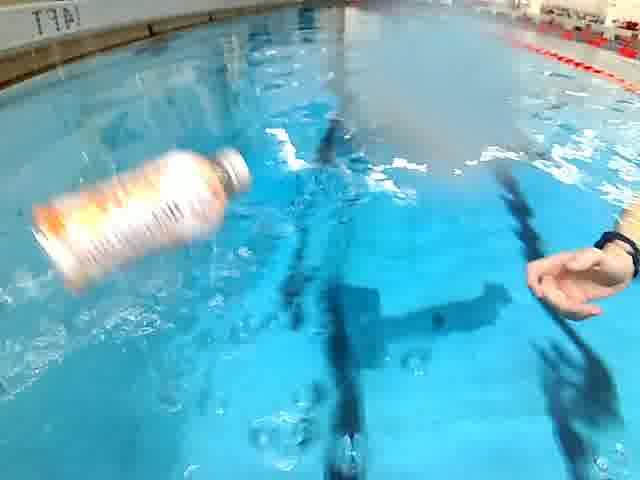Bottle: (27, 142, 258, 296)
